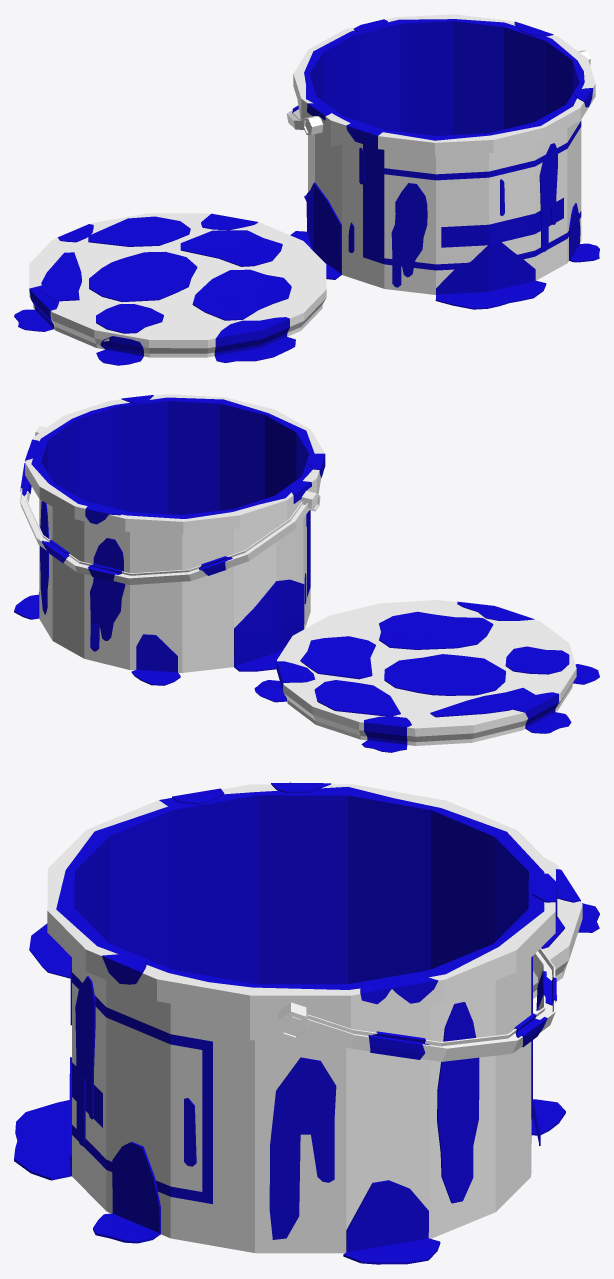
Rendered from SM_A_TIN_OF_PAINT_RED_EMPTY.glb.
The picture shows the model from 3 angles, top to bottom: view 1: azimuth 30°, elevation 25°; view 2: azimuth 150°, elevation 25°; view 3: azimuth 270°, elevation 25°; orthographic projection. The views are drawn at different scales.
Visible parts, largest first — view 1: SM_A_TIN_OF_PAINT_RED_EMPTY; view 2: SM_A_TIN_OF_PAINT_RED_EMPTY; view 3: SM_A_TIN_OF_PAINT_RED_EMPTY.
Boxes of the visible parts, <box> form: SM_A_TIN_OF_PAINT_RED_EMPTY: <box>14,14,599,365</box>; SM_A_TIN_OF_PAINT_RED_EMPTY: <box>14,394,599,752</box>; SM_A_TIN_OF_PAINT_RED_EMPTY: <box>14,781,599,1264</box>.
Size of the model in its own units: 0.6823 by 0.1898 by 0.3718.
